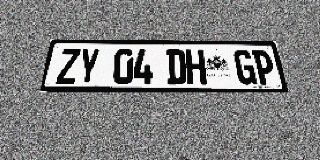0: (113, 49, 134, 85)
4: (133, 49, 153, 85)
D: (166, 49, 187, 85)
G: (233, 50, 257, 85)
H: (185, 50, 207, 85)
P: (252, 50, 277, 85)
Y: (76, 49, 100, 84)
Z: (55, 49, 81, 84)
